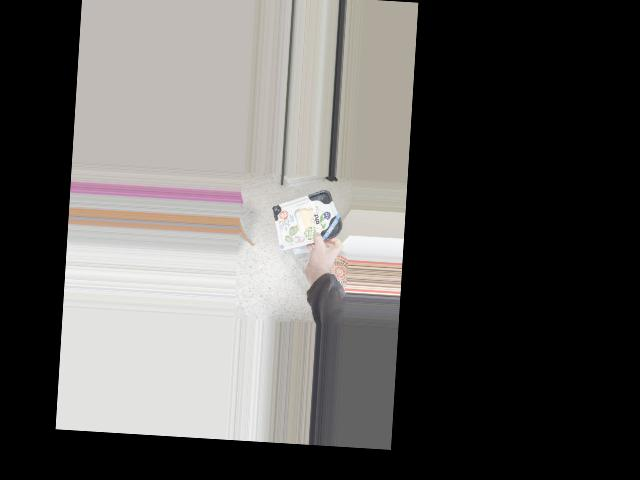cheese: (271, 196, 341, 247)
